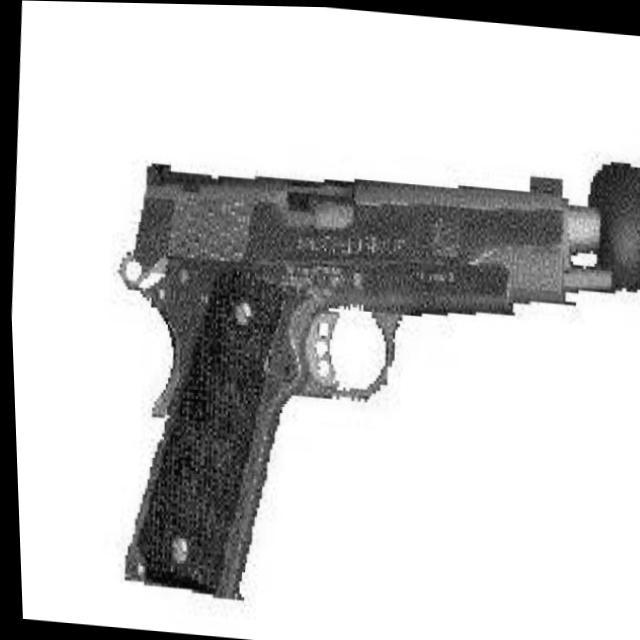weapon: (86, 110, 640, 634)
